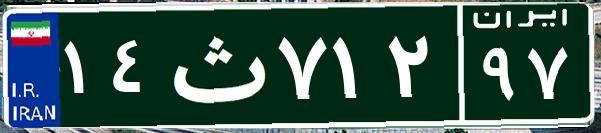1: (330, 28, 385, 110), (57, 26, 110, 107)
2: (385, 28, 445, 110)
4: (110, 28, 158, 105)
7: (273, 28, 330, 110), (525, 38, 570, 115)
9: (475, 38, 525, 113)
ث: (158, 15, 273, 115)
